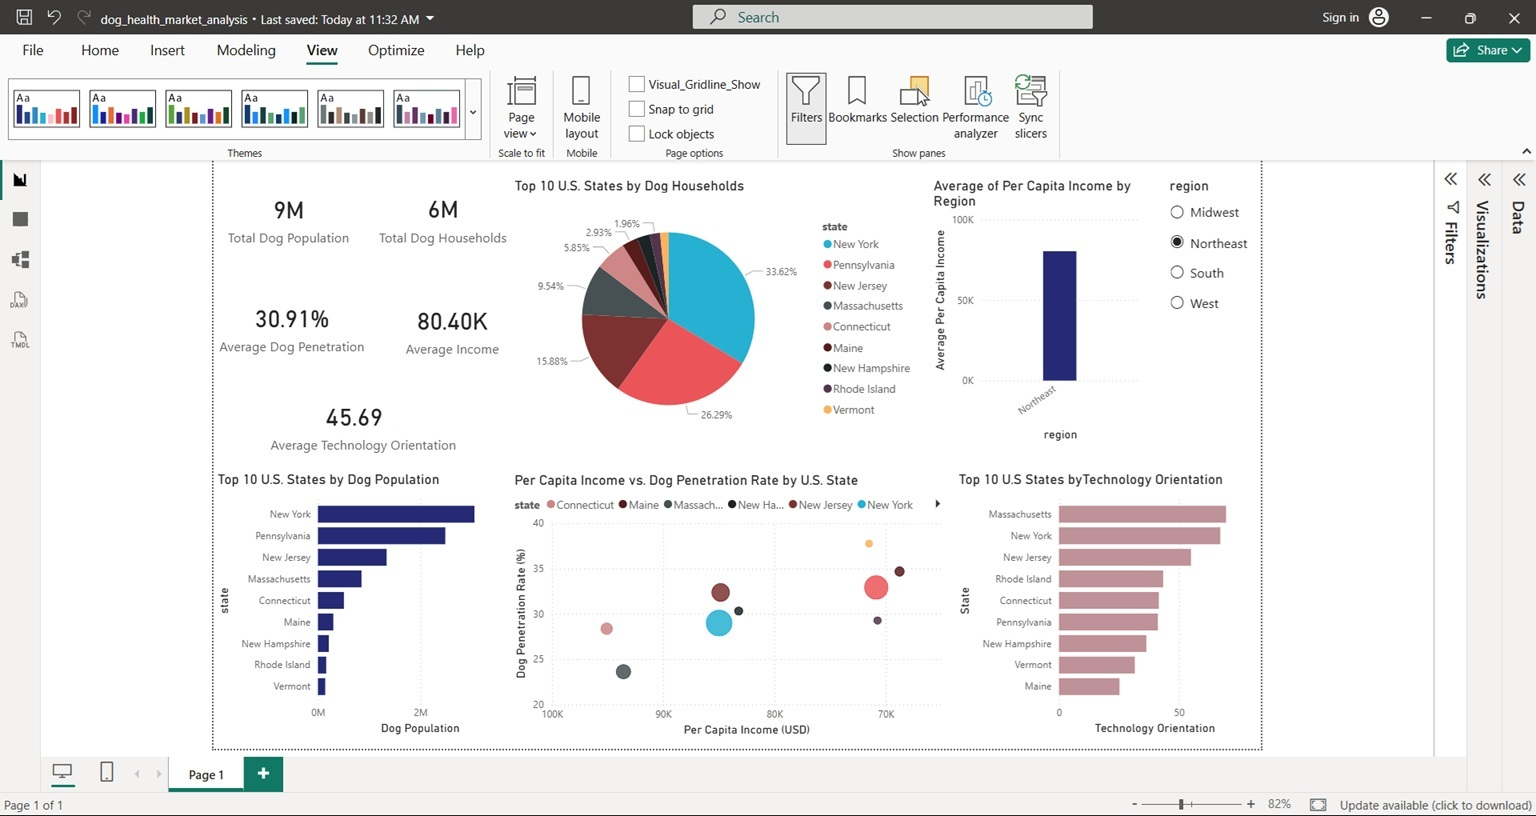

The dashboard page shown, as its layout file describes it:
{"tool":"powerbi","page":{"name":"Page 1","canvas":[1280,720],"ordinal":0},"visuals":[{"type":"card","fields":{"Values":["market market_kpis.Total Dog Households"]},"box":[183.4,0,194.4,139.4],"z":0},{"type":"actionButton","box":[0,0,100,40],"z":1000},{"type":"card","fields":{"Values":["market market_kpis.Total Dog Population"]},"box":[0,0,183.8,140],"z":2000},{"type":"card","fields":{"Values":["market market_kpis.Average Dog Penetration"]},"box":[0,128.4,192,149.2],"z":3000},{"type":"card","fields":{"Values":["market market_kpis.Average Income"]},"box":[192,130.8,200.5,150.4],"z":4000},{"type":"card","fields":{"Values":["market market_kpis.Average Technology Orientation"]},"box":[52.6,266.6,261.7,113.7],"z":5000},{"type":"clusteredBarChart","title":"Top 10 U.S. States by Dog Population","fields":{"Category":["market market_kpis.state"],"Y":["Sum(market market_kpis.dog_population)"]},"box":[0,380.1,392.5,328],"z":6000},{"type":"scatterChart","title":"Per Capita Income vs. Dog Penetration Rate by U.S. State","fields":{"X":["Sum(market market_kpis.per_capita_income)"],"Y":["Sum(market market_kpis.dog_penetration_rate)"],"Category":["market market_kpis.state"],"Size":["Sum(market market_kpis.dog_population)"],"Series":["market market_kpis.state"]},"box":[363.6,381.5,542,328],"z":7000},{"type":"listSlicer","fields":{"Values":["market market_kpis.region"]},"box":[1163.6,20.6,116.6,328],"z":8000},{"type":"clusteredBarChart","title":"Top 10 U.S States byTechnology Orientation","fields":{"Y":["Sum(market market_kpis.technology_orientation)"],"Category":["market market_kpis.state"]},"box":[905.7,380.1,374.6,328],"z":9000},{"type":"pieChart","title":"Top 10 U.S. States by Dog Households","fields":{"Y":["Sum(market market_kpis.dog_households)"],"Series":["market market_kpis.state"],"Category":["market market_kpis.state"]},"box":[363.6,20.6,502.2,328],"z":10000},{"type":"clusteredColumnChart","title":"Average of Per Capita Income by Region","fields":{"Category":["market market_kpis.region"],"Y":["Avg(market market_kpis.per_capita_income)"]},"box":[875.5,20.6,262.1,328],"z":11000}]}

Visuals, with their boxes on the page's 1280x720 design canvas (x1, y1, x2, y2). These are canvas units, not pixel positions in the 1536x816 screenshot, which may show the page scaled, cropped or inside an application window:
card - market market_kpis.Total Dog Households: bbox=(183, 0, 378, 139)
actionButton: bbox=(0, 0, 100, 40)
card - market market_kpis.Total Dog Population: bbox=(0, 0, 184, 140)
card - market market_kpis.Average Dog Penetration: bbox=(0, 128, 192, 278)
card - market market_kpis.Average Income: bbox=(192, 131, 392, 281)
card - market market_kpis.Average Technology Orientation: bbox=(53, 267, 314, 380)
"Top 10 U.S. States by Dog Population" clusteredBarChart: bbox=(0, 380, 392, 708)
"Per Capita Income vs. Dog Penetration Rate by U.S. State" scatterChart: bbox=(364, 382, 906, 710)
listSlicer - market market_kpis.region: bbox=(1164, 21, 1280, 349)
"Top 10 U.S States byTechnology Orientation" clusteredBarChart: bbox=(906, 380, 1280, 708)
"Top 10 U.S. States by Dog Households" pieChart: bbox=(364, 21, 866, 349)
"Average of Per Capita Income by Region" clusteredColumnChart: bbox=(876, 21, 1138, 349)
